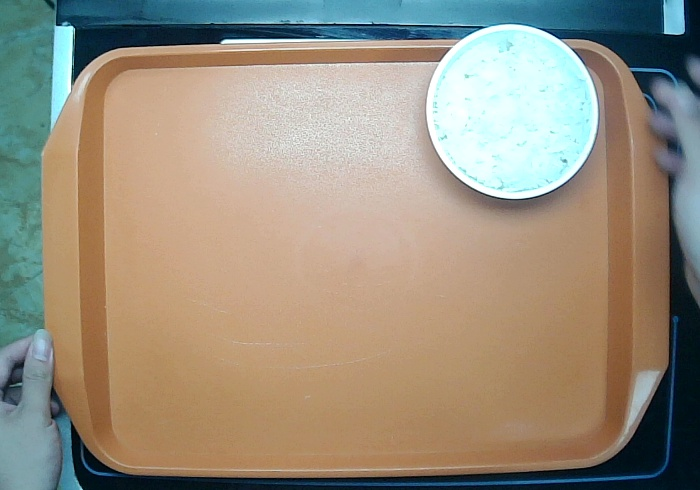HZYJPL-Fan_Wan: (423, 19, 598, 204)
